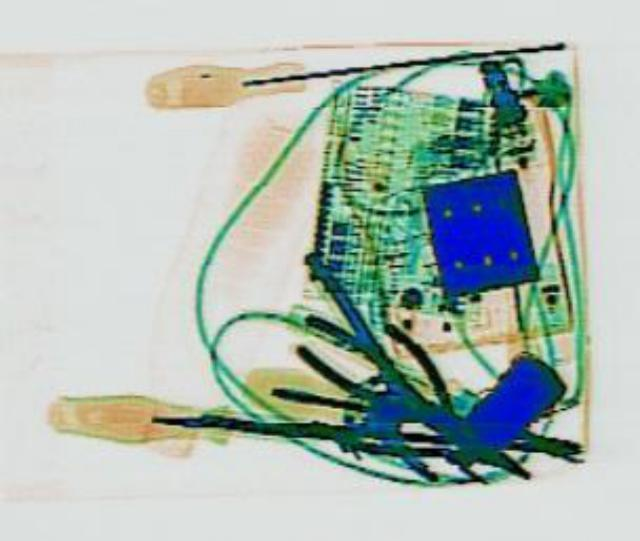Pliers: (286, 293, 562, 502), (255, 382, 581, 472)
